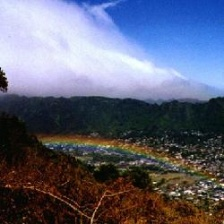neutral: (3, 7, 221, 224)
